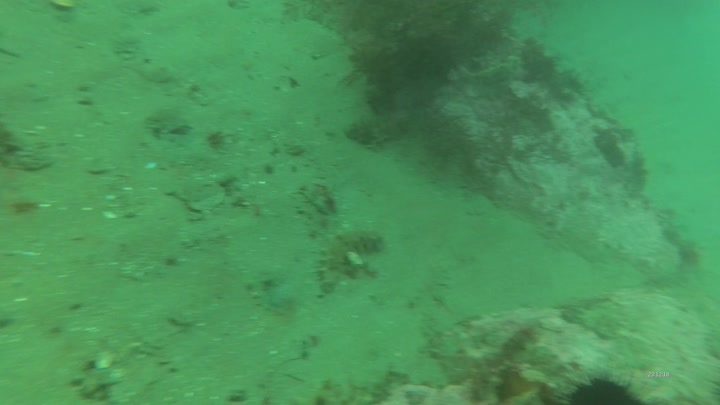echinus: (547, 371, 649, 405)
holothurian: (316, 226, 387, 280)
